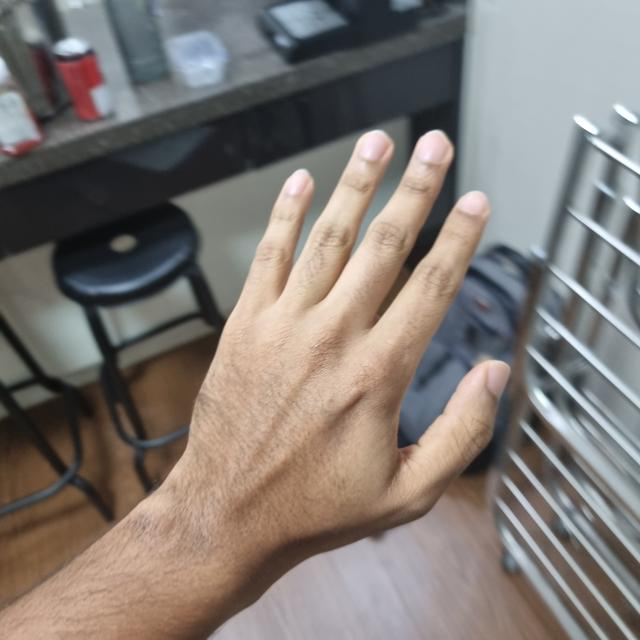Paper: (182, 131, 503, 559)
